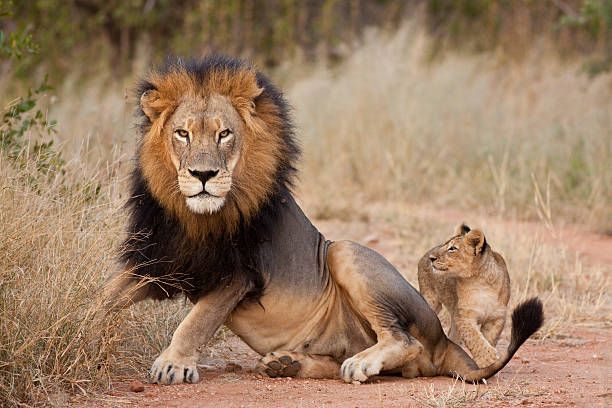lion: (96, 42, 322, 316)
